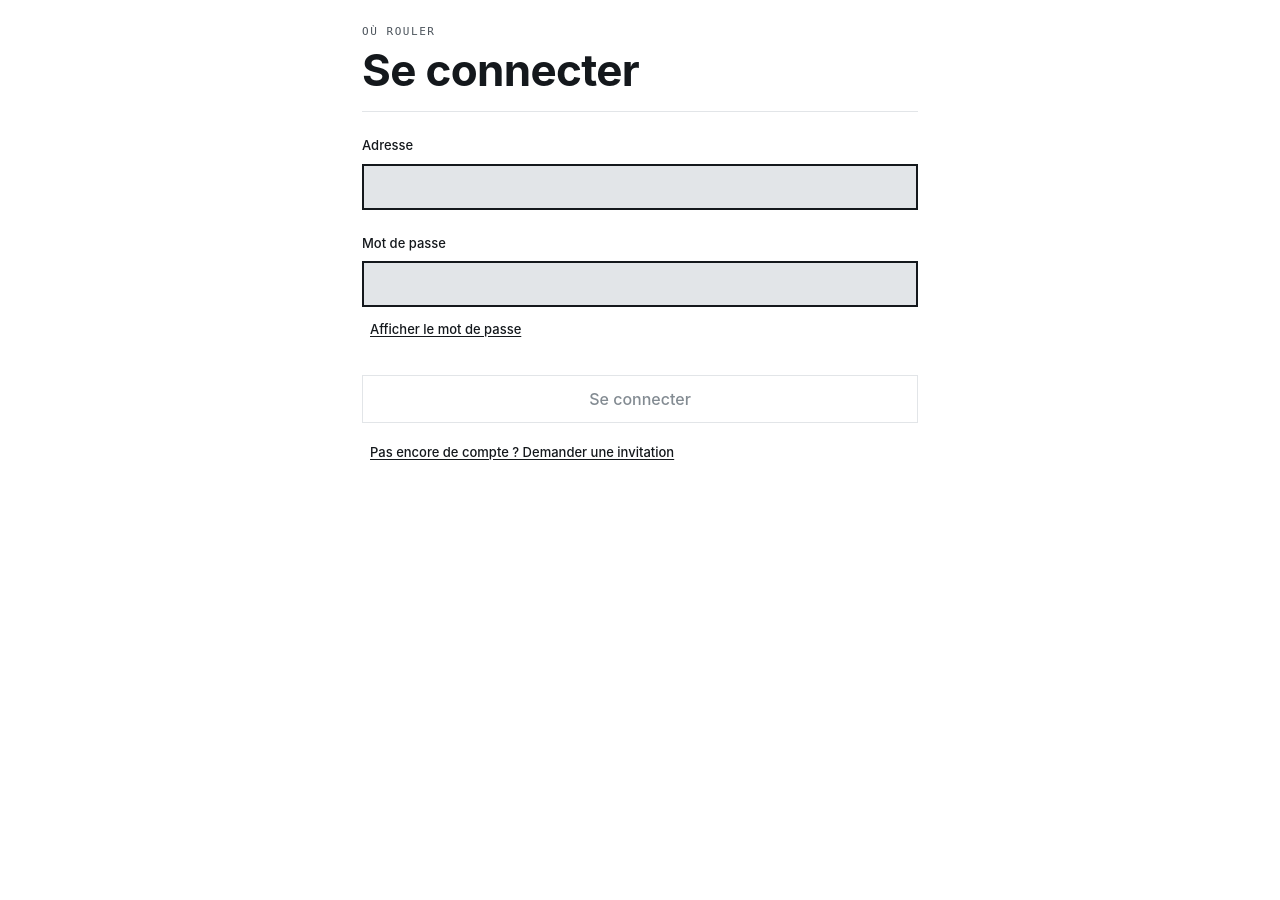
Test case: une panne au démarrage ne fige pas l'application › un 401 en retard, arrivé après la reconnexion, ne rouvre pas l'écran
Check: the heading "Se connecter" is shown, box [362,44,639,95]
Type "cycliste@exemple.invalid" into the field labelled "Adresse".
click(640, 187); type("cycliste@exemple.invalid")  # box [362,164,918,210]
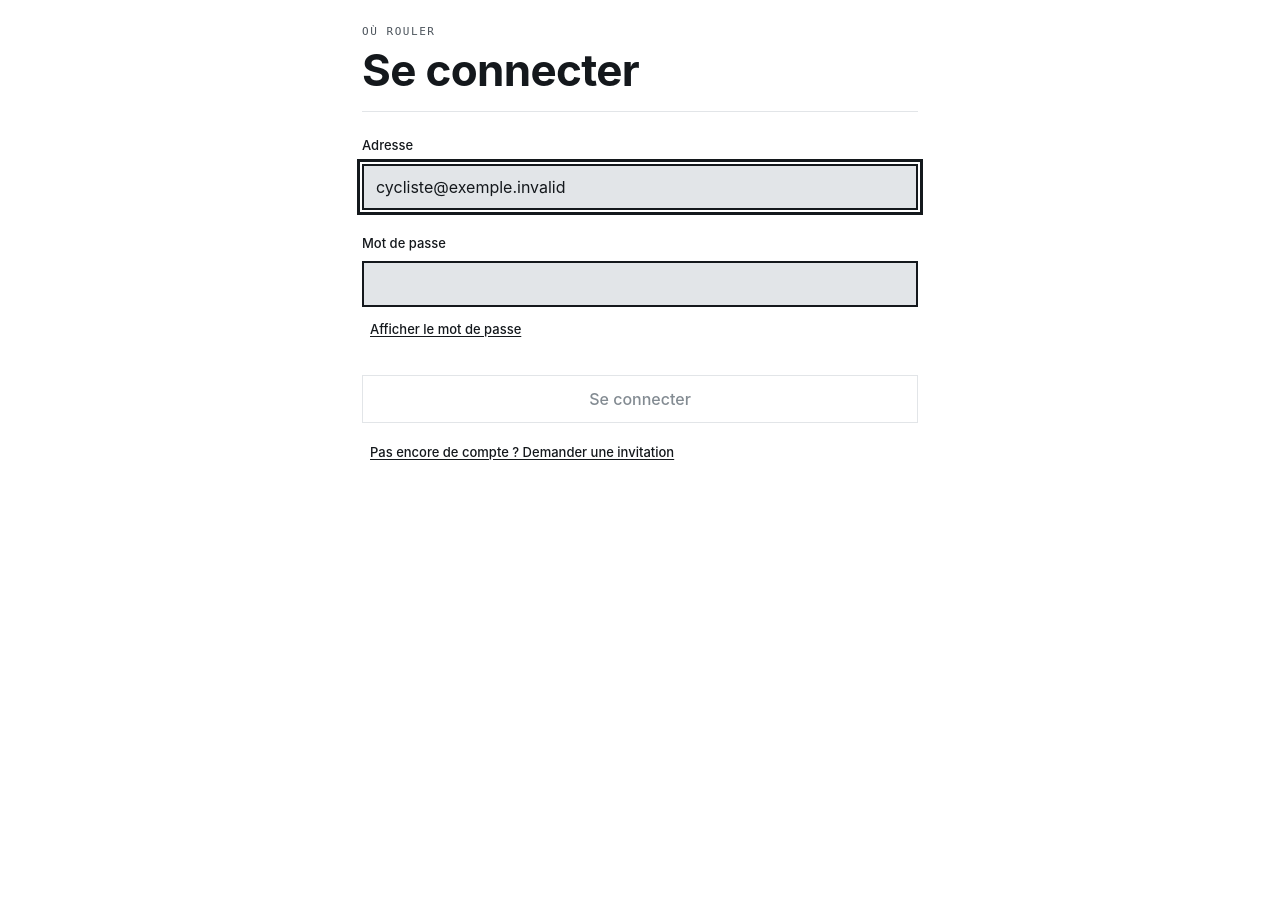
Type "un-secret-de-test" into the password field labelled "Mot de passe".
click(640, 284); type("un-secret-de-test")  # box [362,261,918,307]
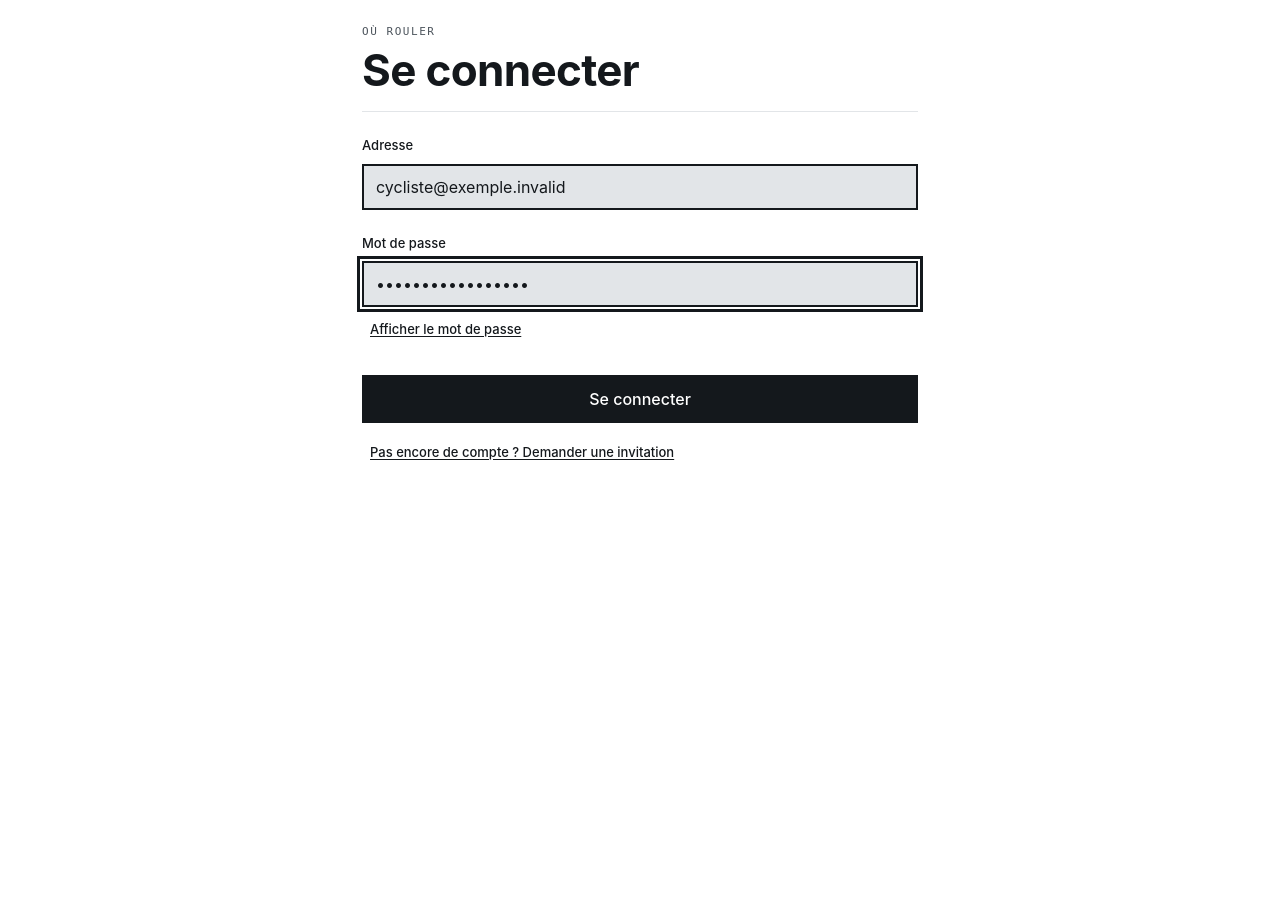
Click the button "Se connecter".
click(640, 399)  # box [362,375,918,423]
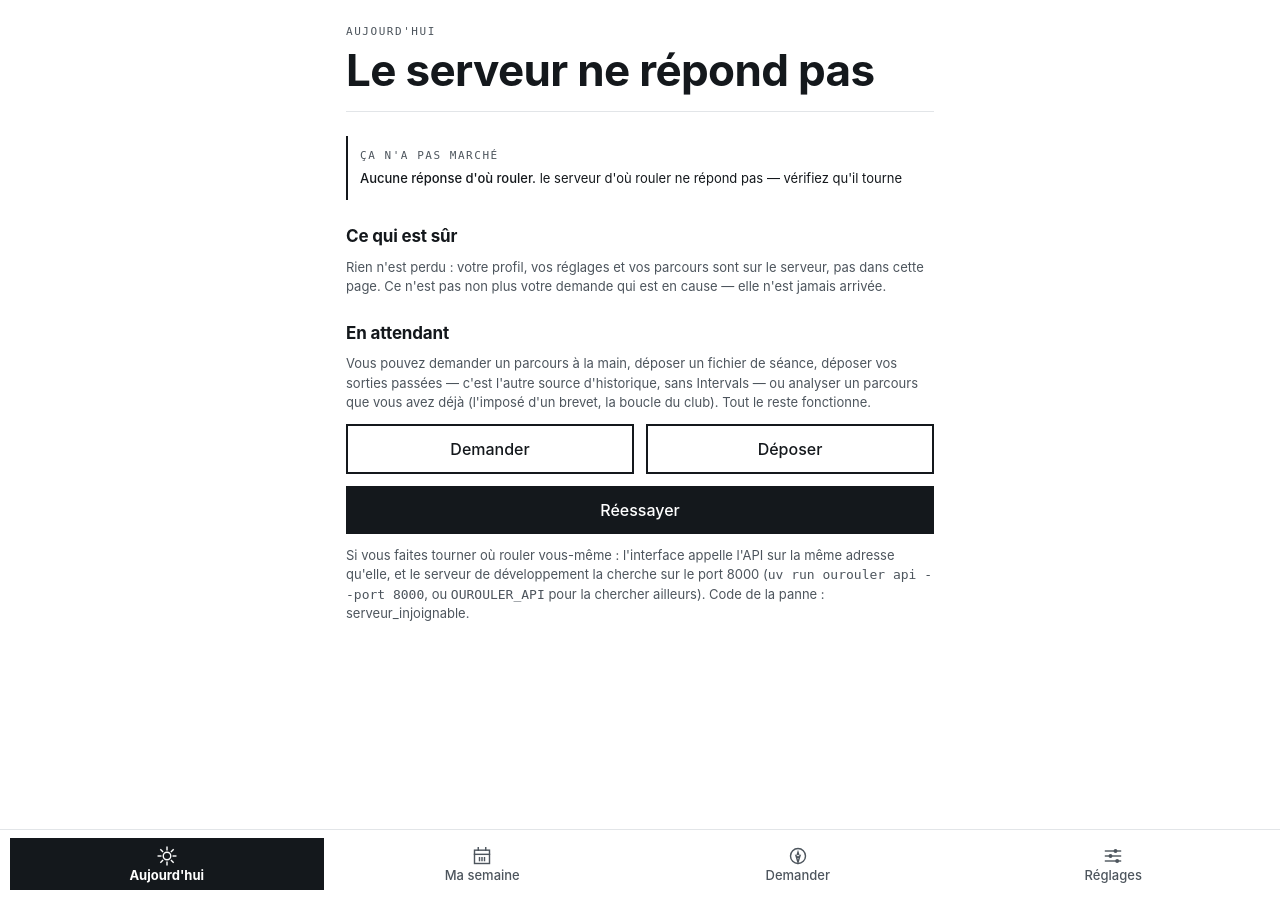
Check: the heading "Se connecter" is gone
Check: the navigation bar named "Navigation principale" is shown, box [0,829,1279,899]
